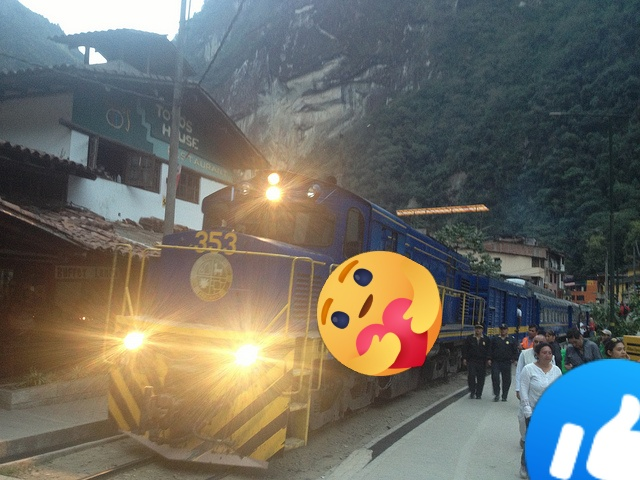care: (317, 251, 442, 376)
like: (525, 359, 640, 480)
